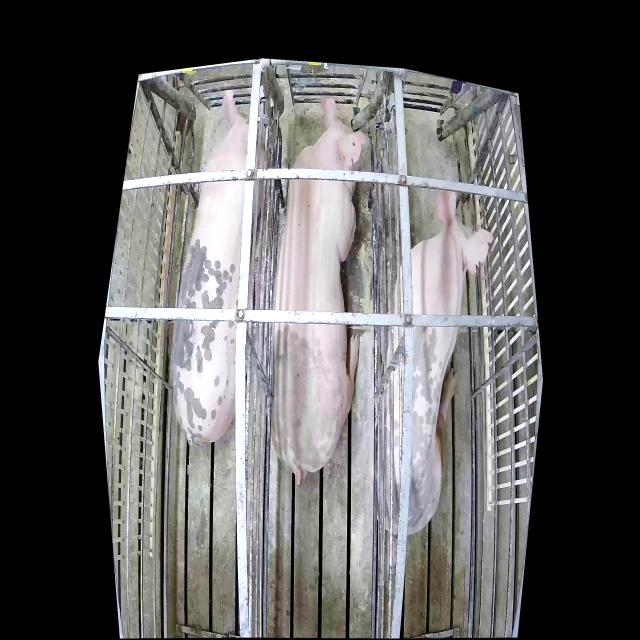pig: (377, 189, 493, 538), (272, 96, 370, 487), (170, 90, 270, 446)
